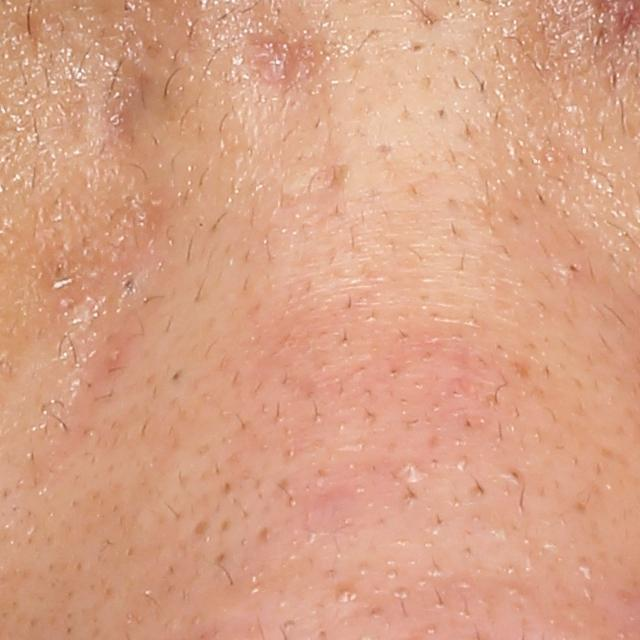atrophic_scar: (92, 49, 167, 150), (279, 162, 355, 209), (247, 32, 306, 90)
